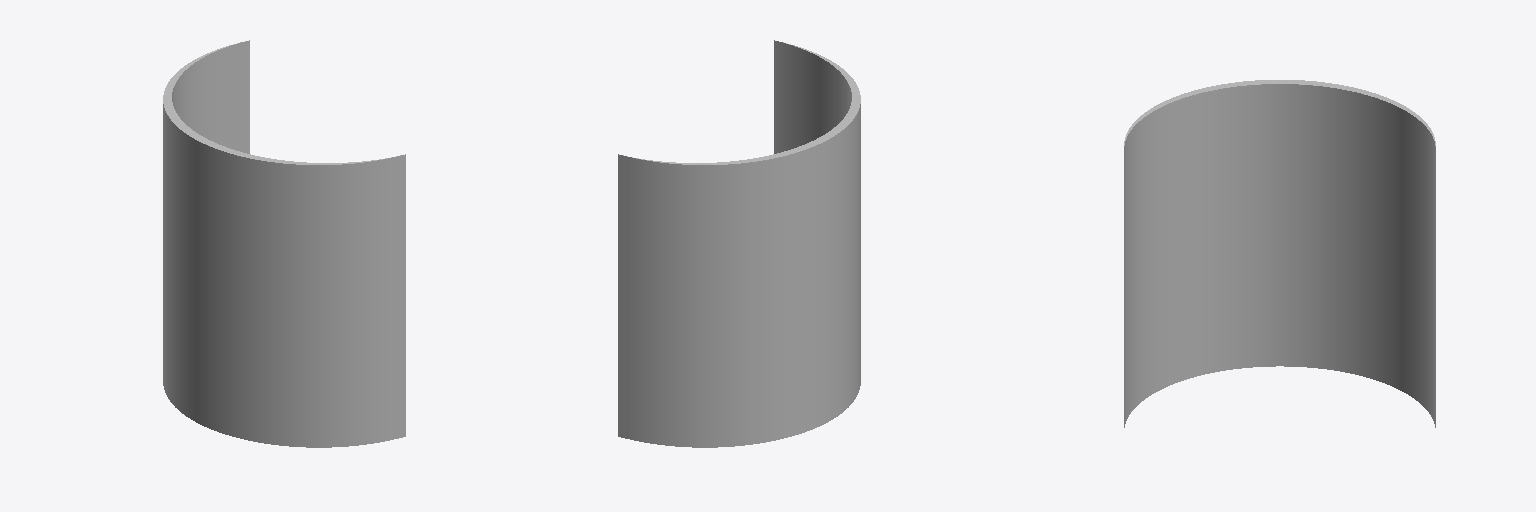
Rendered from wall.obj.
3 renders of one model, left to right at view 1: azimuth 30°, elevation 25°; view 2: azimuth 150°, elevation 25°; view 3: azimuth 270°, elevation 25°, orthographic.
Parts seen in each view (by area): view 1: Cylinder; view 2: Cylinder; view 3: Cylinder.
Part boxes in pixels (x1,y1,x2,y2): Cylinder: (163, 40, 405, 447); Cylinder: (618, 40, 860, 447); Cylinder: (1124, 80, 1435, 427).
Bounding box in the file's own units: 1.07 × 2 × 2.